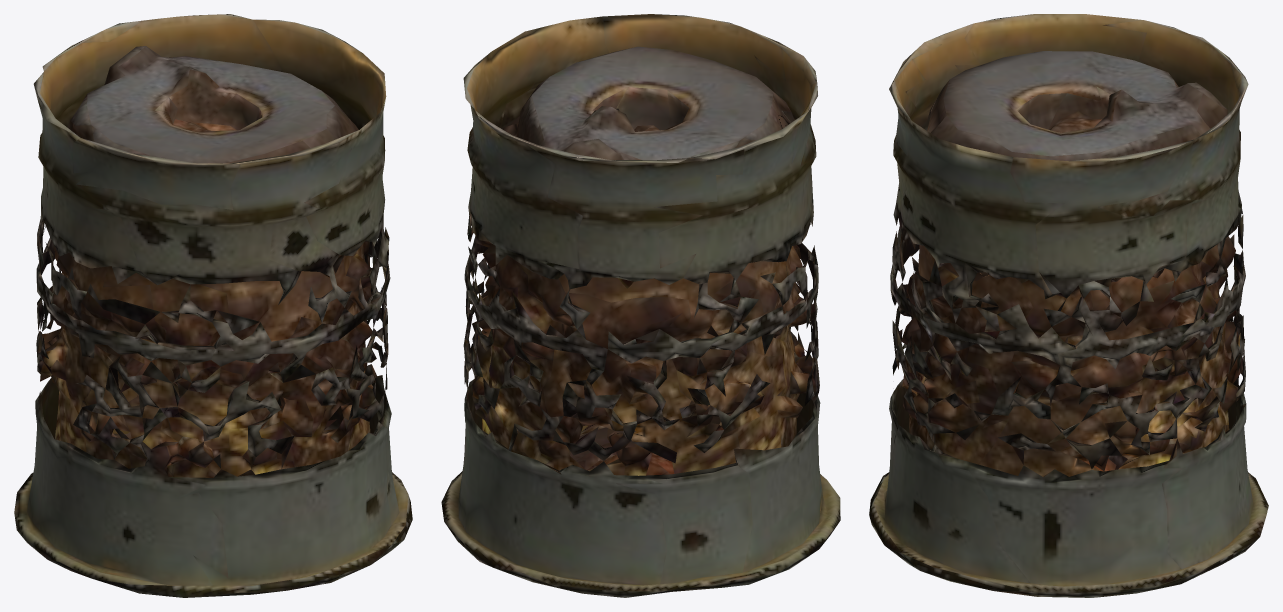
File: rh_ember_pot.glb
The picture shows the model from 3 angles, left to right: view 1: azimuth 30°, elevation 25°; view 2: azimuth 150°, elevation 25°; view 3: azimuth 270°, elevation 25°; orthographic projection.
Visible parts, largest first — view 1: geometry_0; view 2: geometry_0; view 3: geometry_0.
Boxes of the visible parts, left/top/right/bottom form: geometry_0: left=14, top=14, right=412, bottom=597; geometry_0: left=441, top=14, right=840, bottom=597; geometry_0: left=869, top=14, right=1268, bottom=597.
Size of the model in its own units: 0.8417 by 0.9991 by 0.8418.
1 material, 1 textured.
